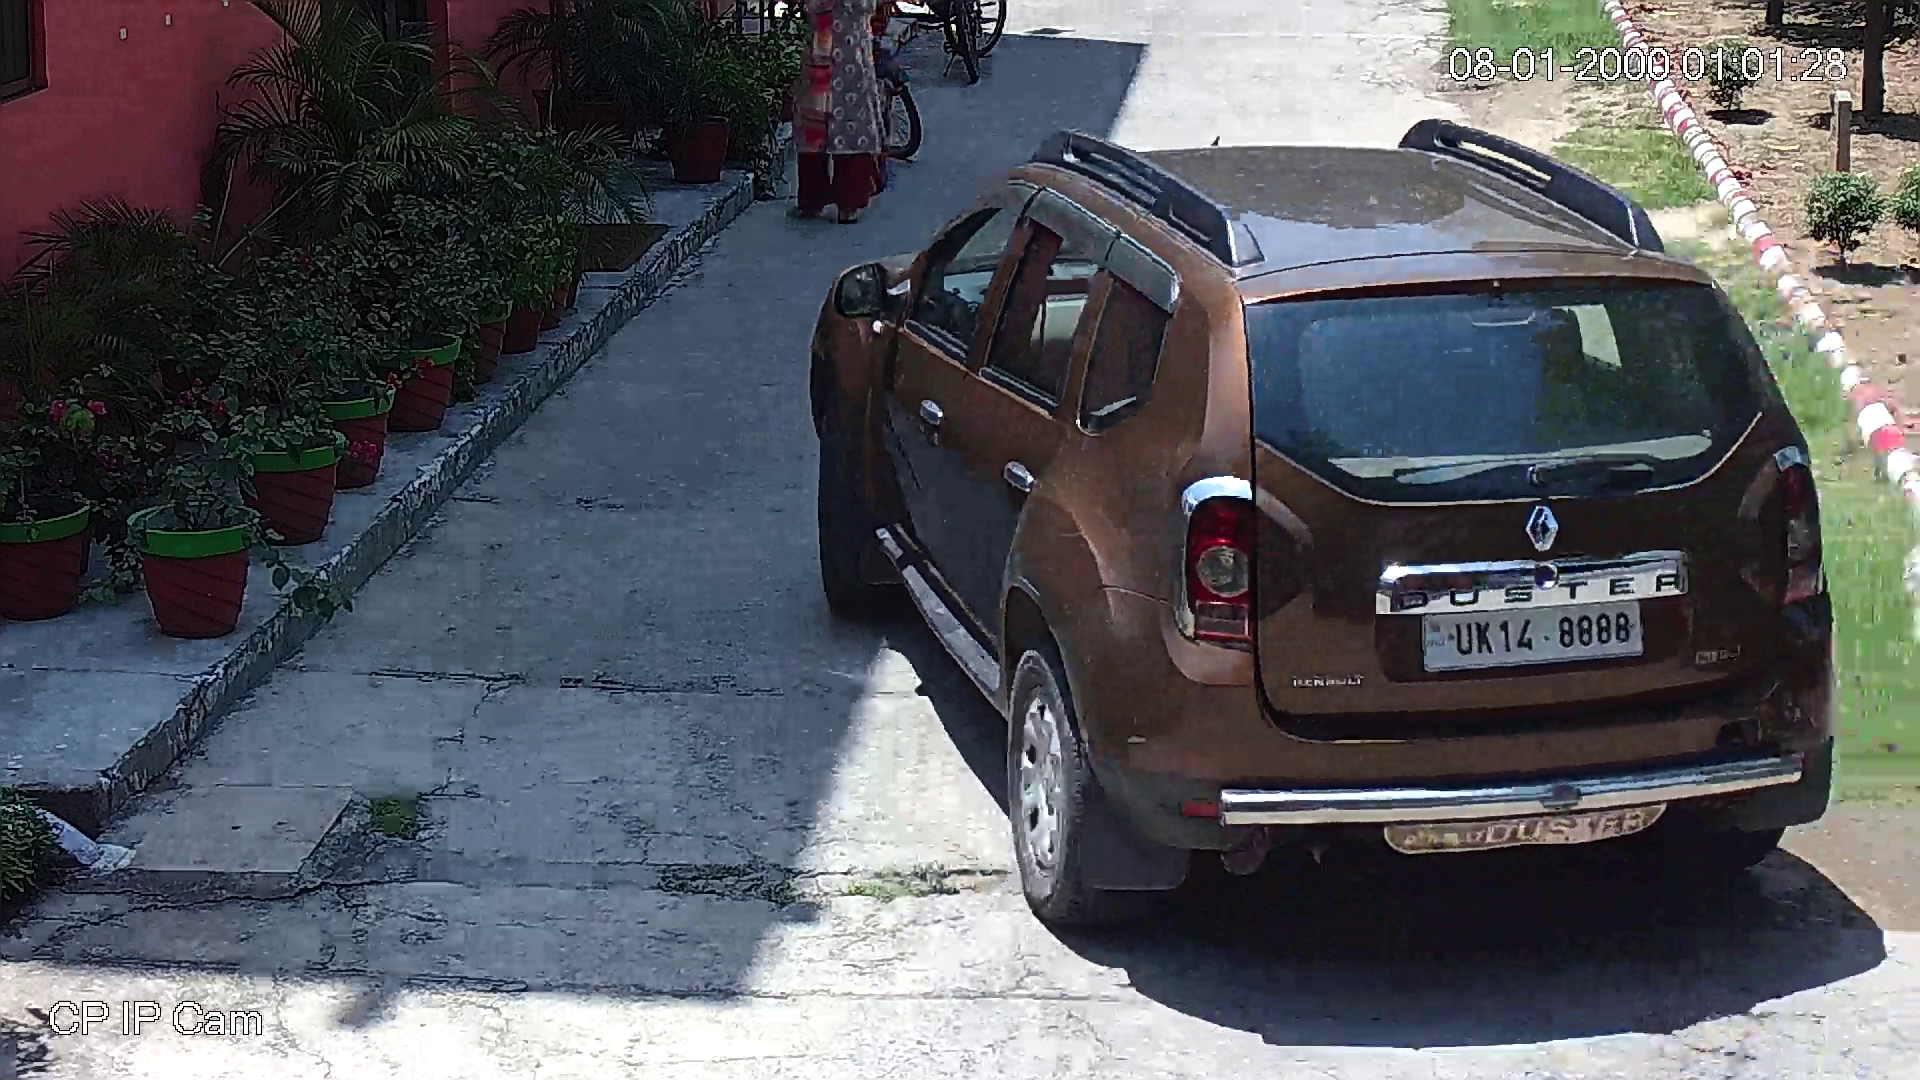plate: (1418, 598, 1654, 676)
